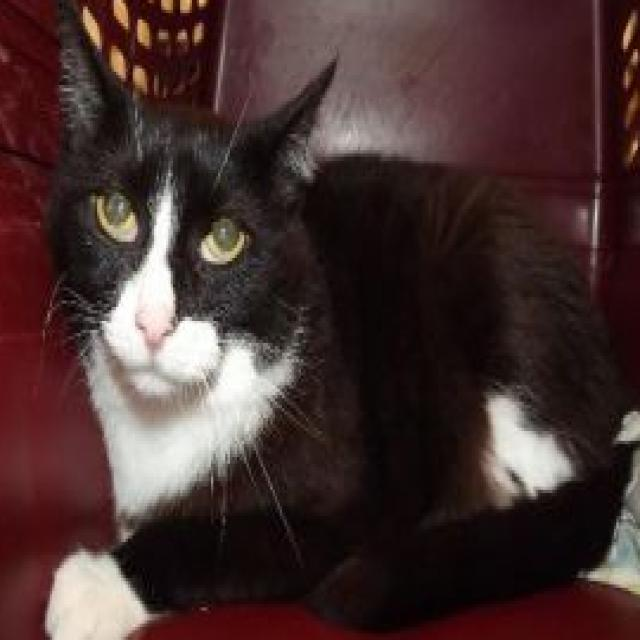Tuxedo: (38, 0, 635, 640)
